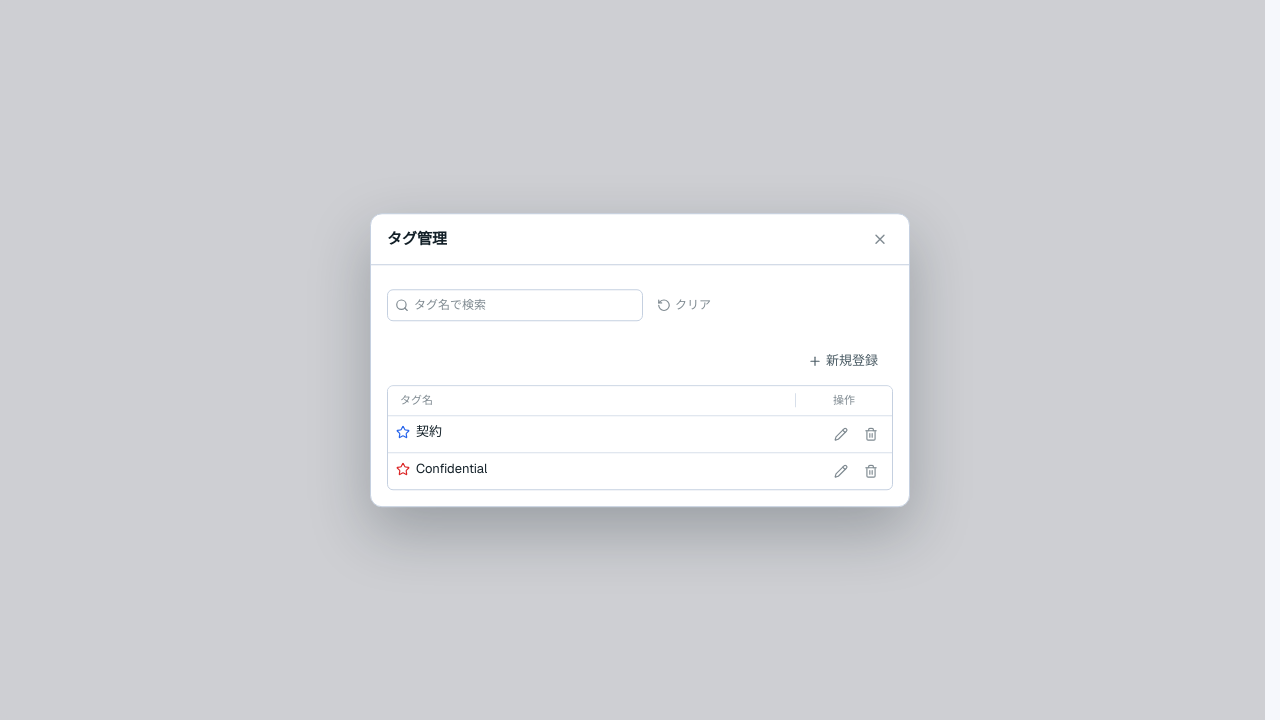
Test case: TagMasterOverlay — archiveFilter 提供時のフィルタ行/新規登録の段分け（hom-0135） › File 経路でクリアボタン押下するとキーワードが空に戻り全件表示（fil-0093）
Type "con" into the search field labelled "タグ名で検索" at (515, 305), box left=387, top=289, right=643, bottom=321
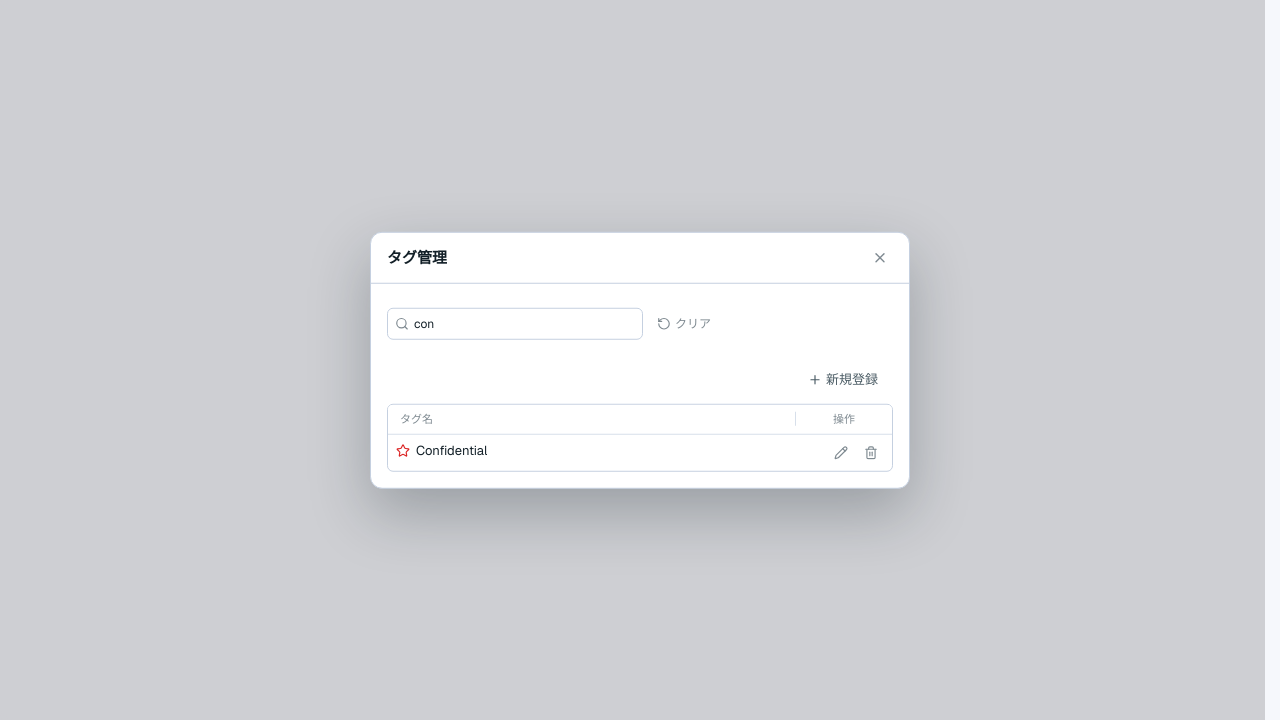
Click the button with aria-label "検索をクリア" at (684, 324), box left=651, top=309, right=717, bottom=339
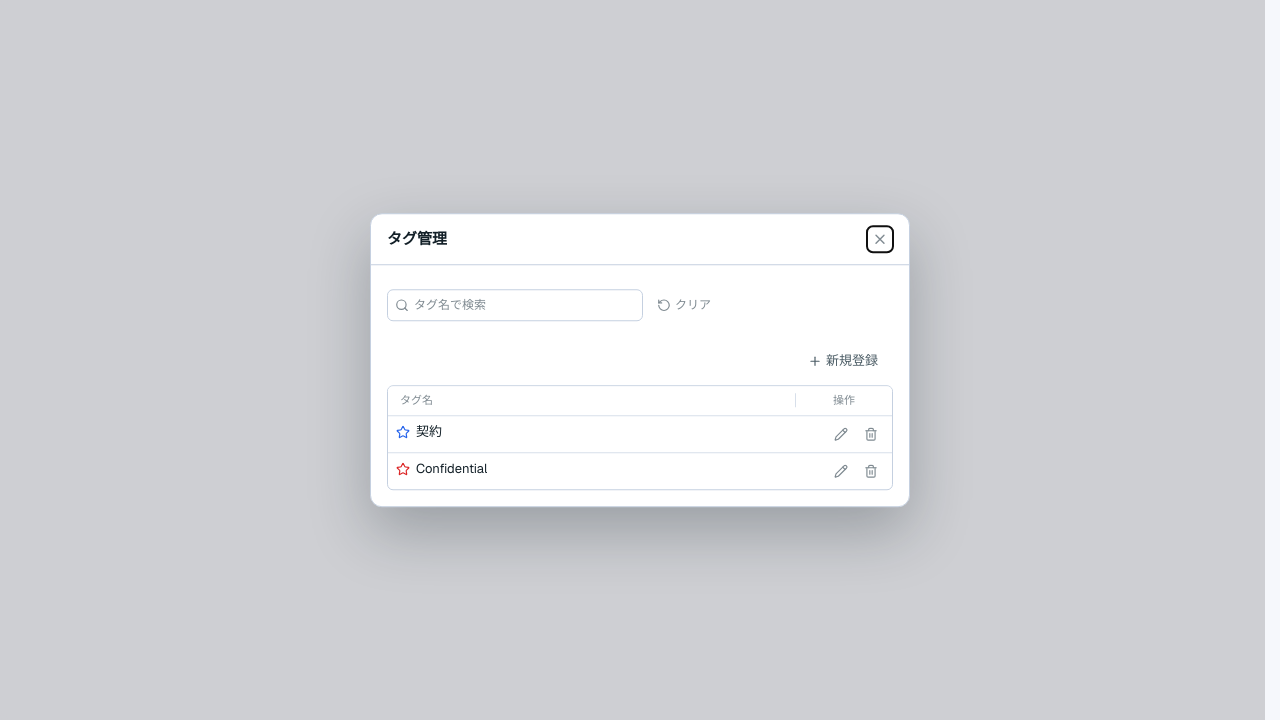
Check: the button named "Confidential を編集" is shown, box left=828, top=458, right=854, bottom=484
Check: the search field labelled "タグ名で検索" is empty, box left=387, top=289, right=643, bottom=321
Check: the button named "契約 を編集" is shown, box left=828, top=421, right=854, bottom=447
